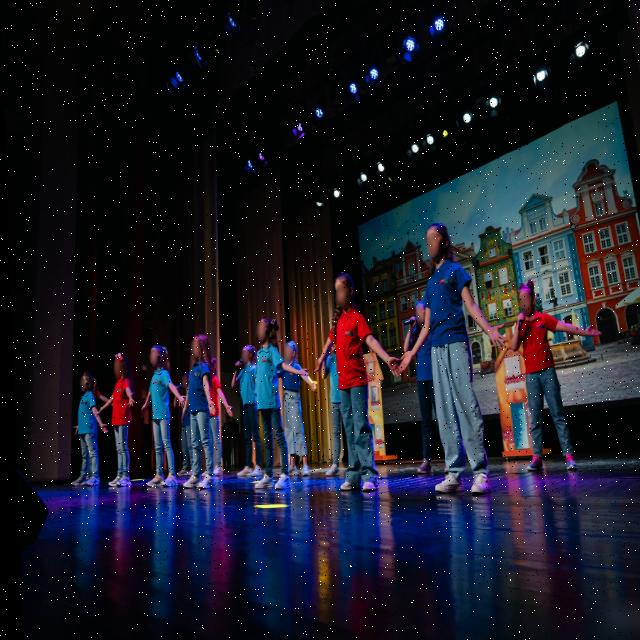Person: (412, 197, 496, 512), (506, 260, 597, 493), (325, 257, 388, 513), (395, 278, 442, 485), (245, 303, 291, 502), (175, 322, 223, 499), (271, 328, 314, 489), (314, 297, 350, 480), (140, 335, 180, 492), (56, 359, 102, 492), (228, 333, 264, 499), (101, 340, 135, 499)
